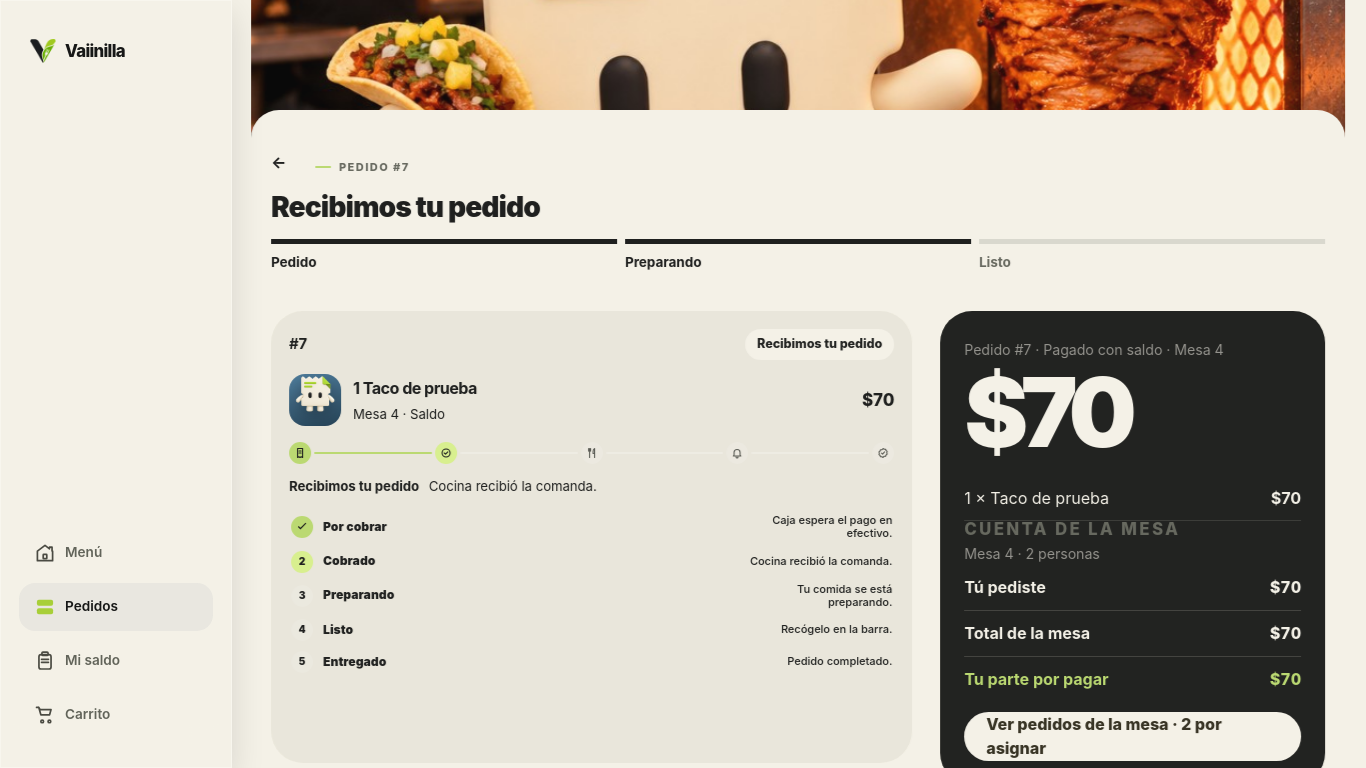
Test: OrderDetailPage › conserva separados a participantes distintos aunque compartan alias
(page scrolled)
Expected: the heading "Cuenta de la mesa" is shown, [965,519,1181,539]
Click the heading "Ver pedidos de la mesa · 2 por asignar".
click(1134, 736)  # box [965,712,1302,761]
(page scrolled)
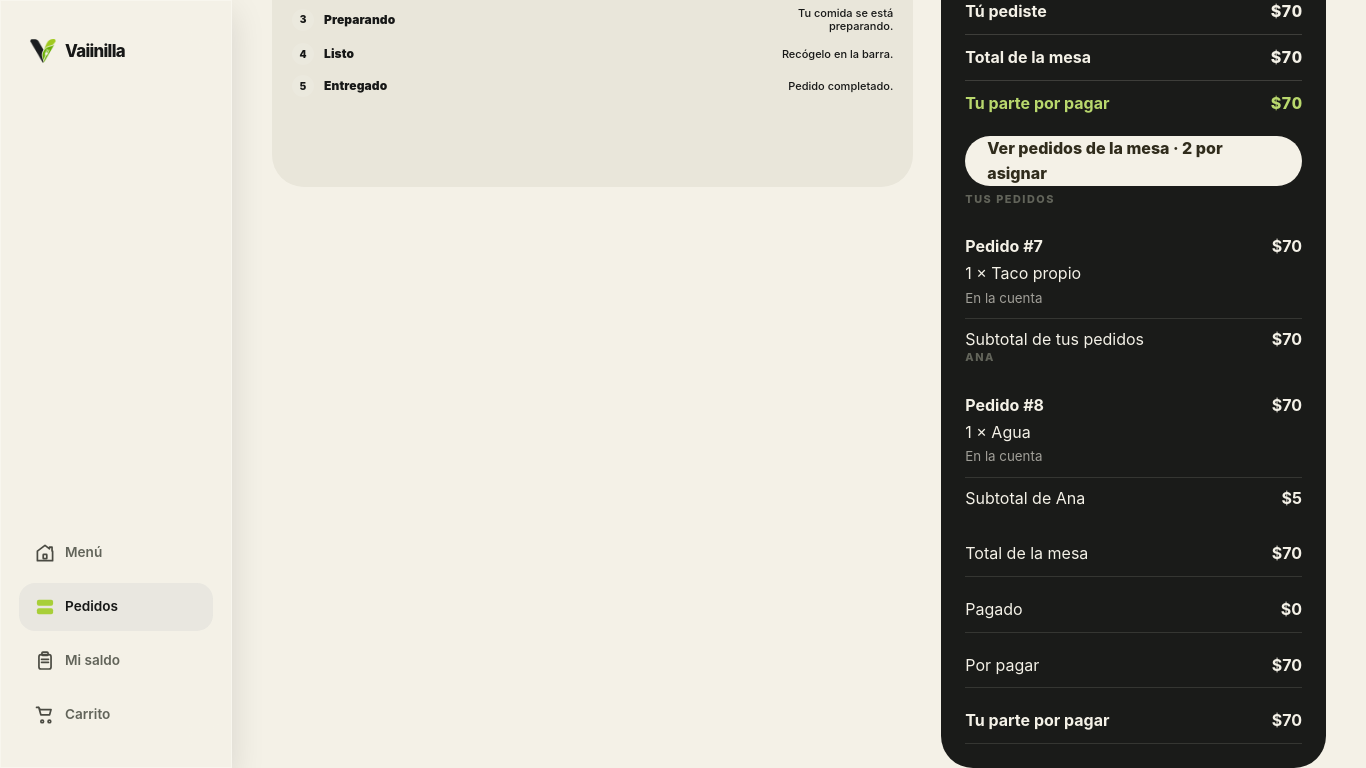
Now the number of headings "Tus pedidos" is 1, box [965,192,1055,206]
Now the number of headings "Ana" is 1, box [965,350,995,364]
Now the text "1 × Taco propio" is shown, box [965,261,1081,286]
